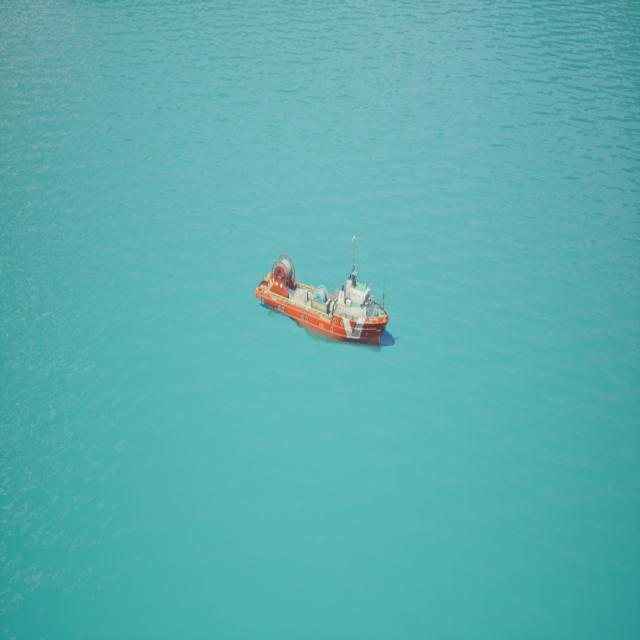tug boat: (266, 223, 408, 400)
